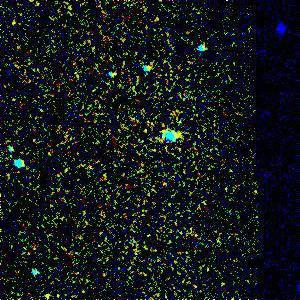star: (162, 122, 192, 152)
